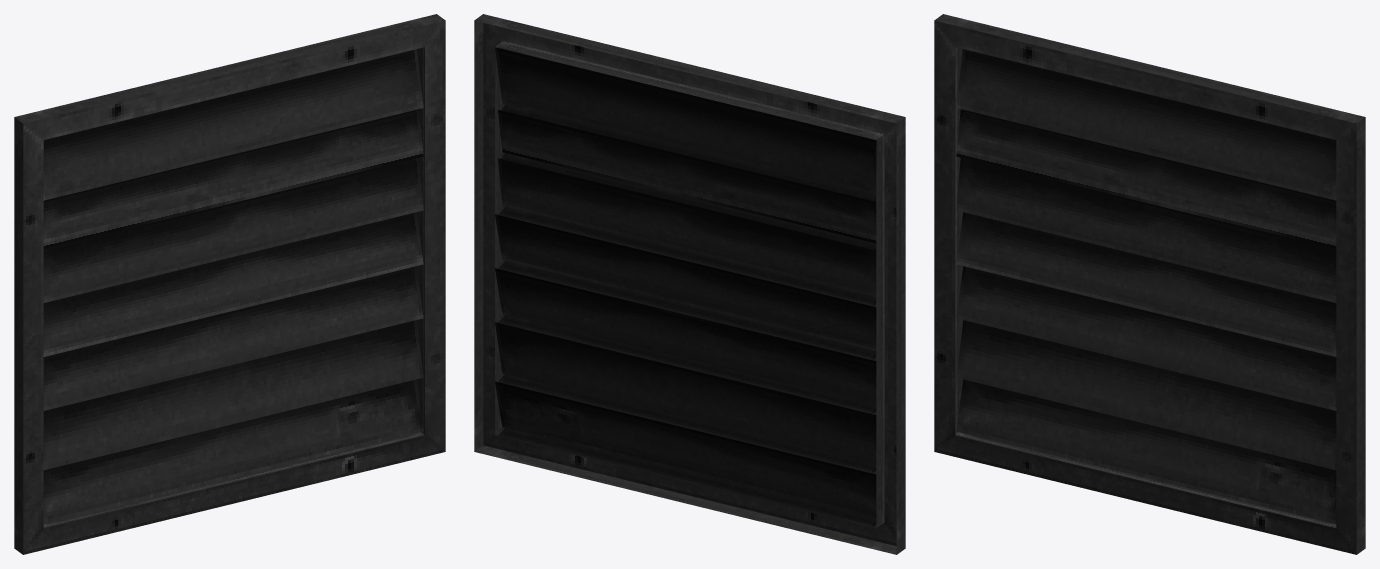
File: vent_1.glb
3 renders of one model, left to right at view 1: azimuth 30°, elevation 25°; view 2: azimuth 150°, elevation 25°; view 3: azimuth 330°, elevation 25°, orthographic.
Parts seen in each view (by area): view 1: vent_1; view 2: vent_1; view 3: vent_1.
Part boxes in pixels (x1,y1,x2,y2): vent_1: (14,14,445,554); vent_1: (474,14,905,554); vent_1: (934,14,1365,554).
Bounding box in the file's own units: 0.82 × 0.8 × 0.03.
Materials: 1 (1 with a texture image).
